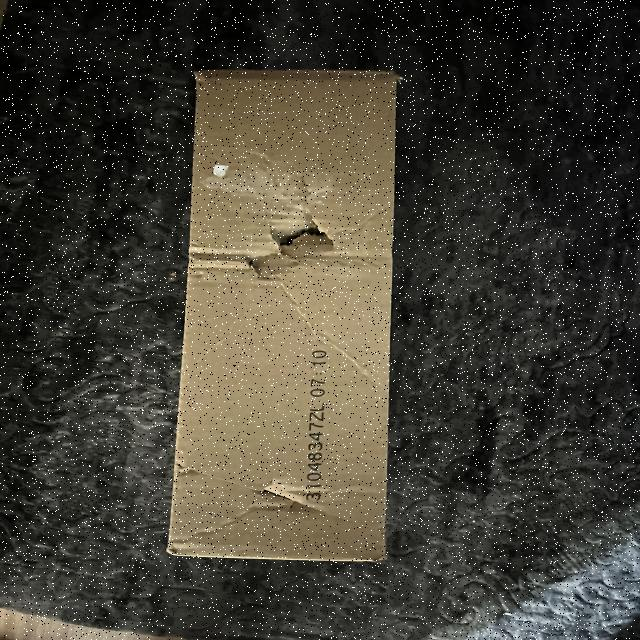damaged: (174, 63, 401, 575), (233, 206, 360, 288), (244, 474, 342, 522)
